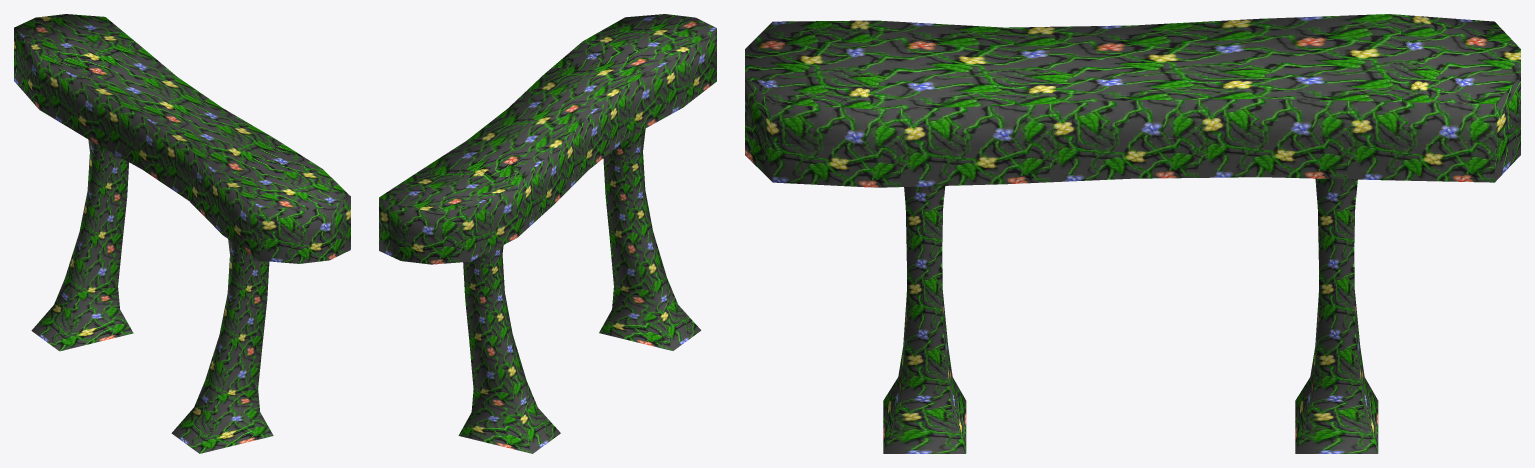
File: EKH_THRONE_PS_TH_PILLARS848475__GX.fbx
3 renders of one model, left to right at view 1: azimuth 30°, elevation 25°; view 2: azimuth 150°, elevation 25°; view 3: azimuth 270°, elevation 25°, orthographic. The views are drawn at different scales.
Parts seen in each view (by area): view 1: EKH_THRONE_PS_TH_PILLARS848475__GX; view 2: EKH_THRONE_PS_TH_PILLARS848475__GX; view 3: EKH_THRONE_PS_TH_PILLARS848475__GX.
Part boxes in pixels (box(x1,y1,x2,y2)): EKH_THRONE_PS_TH_PILLARS848475__GX: box(14, 14, 350, 453); EKH_THRONE_PS_TH_PILLARS848475__GX: box(379, 14, 716, 453); EKH_THRONE_PS_TH_PILLARS848475__GX: box(745, 14, 1520, 453).
Size of the model in its own units: 34318 by 72882 by 129686.
Materials: 8 (8 with a texture image).
